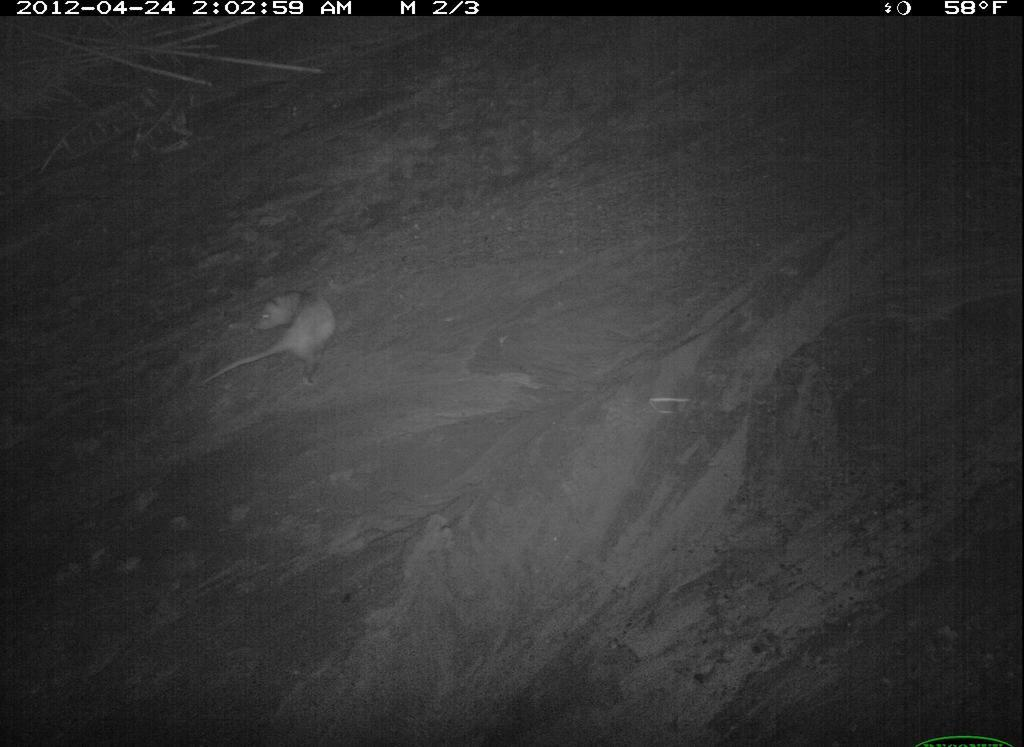opossum: (405, 569, 692, 747)
